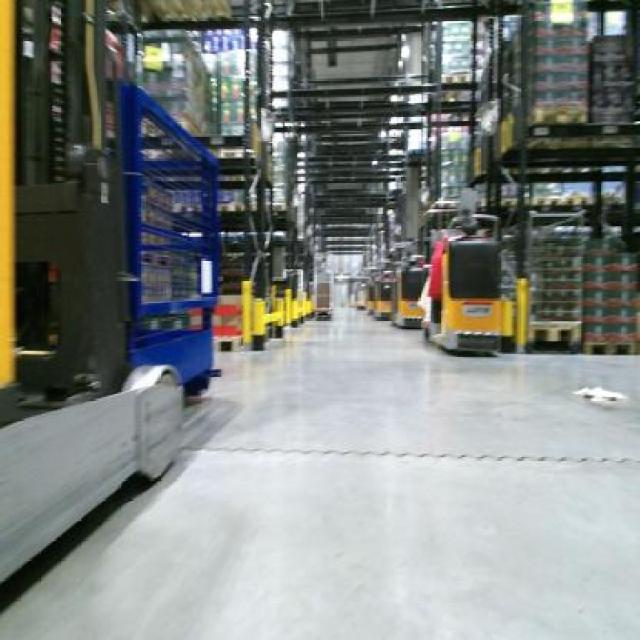ground: (0, 305, 638, 638)
pallet: (528, 321, 582, 357), (531, 100, 593, 126), (584, 338, 640, 356), (527, 193, 597, 207), (213, 334, 244, 356), (216, 202, 246, 214)
